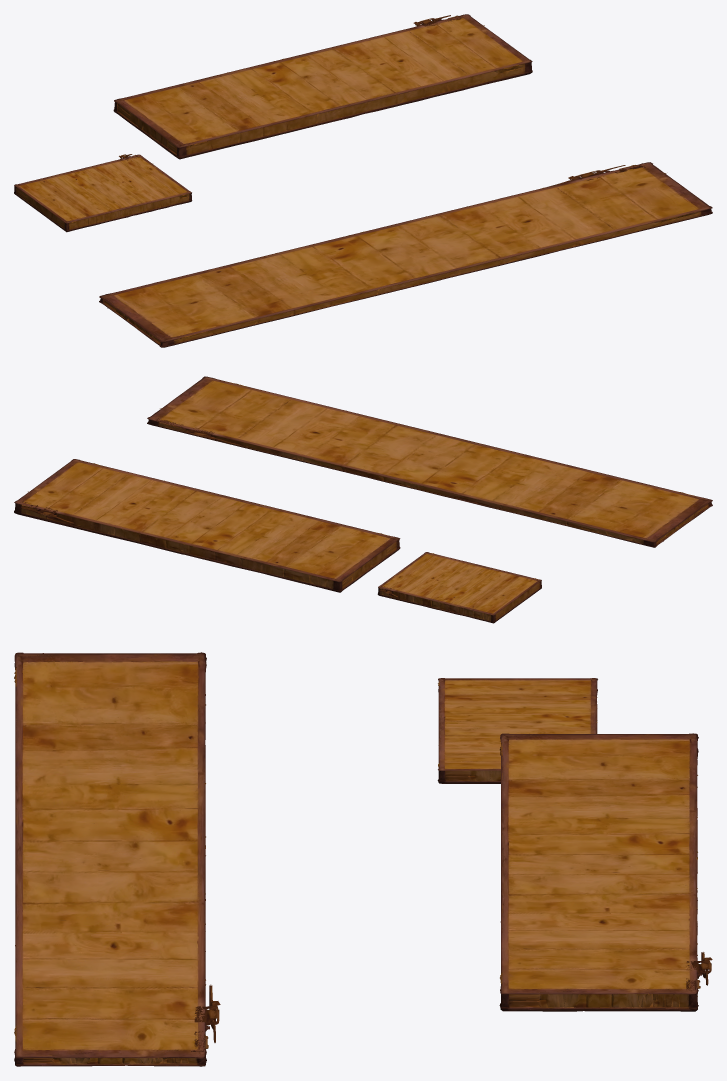
The model's file is wind_floor.glb.
3 views of the same model, one above another, from view 1: azimuth 30°, elevation 25°; view 2: azimuth 150°, elevation 25°; view 3: azimuth 270°, elevation 25° (orthographic). The views are drawn at different scales.
Parts seen in each view (by area): view 1: tripo_node_988384b4-4b60-4d09-9f6d-7f9265e472a5 (×3); view 2: tripo_node_988384b4-4b60-4d09-9f6d-7f9265e472a5 (×3); view 3: tripo_node_988384b4-4b60-4d09-9f6d-7f9265e472a5 (×3).
Part boxes in pixels (box(x1,y1,x2,y2)): tripo_node_988384b4-4b60-4d09-9f6d-7f9265e472a5 (×3): box(14, 14, 712, 347); tripo_node_988384b4-4b60-4d09-9f6d-7f9265e472a5 (×3): box(14, 376, 712, 623); tripo_node_988384b4-4b60-4d09-9f6d-7f9265e472a5 (×3): box(14, 652, 712, 1066).
Bounding box in the file's own units: 2.8 × 0.19 × 2.03.
Materials: 1 (1 with a texture image).
